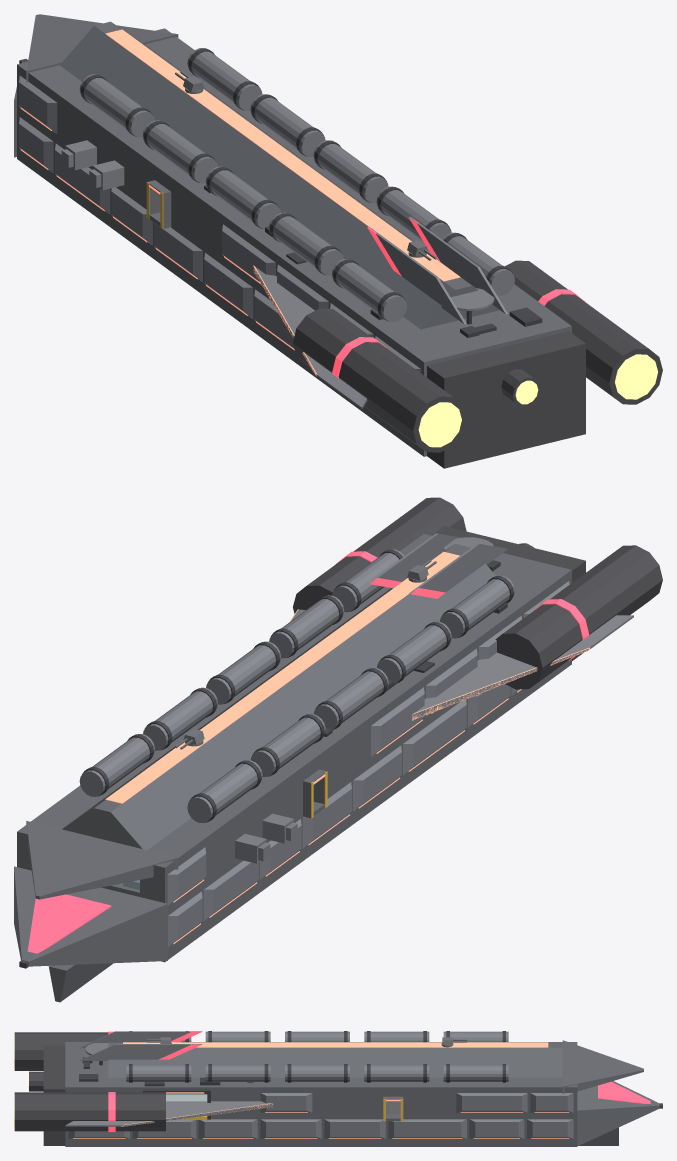
Rendered from ship_SMALL_SUPPORT_v1.glb.
3 renders of one model, top to bottom at view 1: azimuth 30°, elevation 25°; view 2: azimuth 150°, elevation 25°; view 3: azimuth 270°, elevation 25°, orthographic. The views are drawn at different scales.
Parts seen in each view (by area): view 1: SMALL_SUPPORT_Hull-col, SMALL_SUPPORT_Armor, SMALL_SUPPORT_Engines, SMALL_SUPPORT_Lights, SMALL_SUPPORT_Trim, SMALL_SUPPORT_EngineGlow, SMALL_SUPPORT_Accent, SMALL_SUPPORT_Details, SMALL_SUPPORT_EscapePod_1, SMALL_SUPPORT_EscapePod_2; view 2: SMALL_SUPPORT_Hull-col, SMALL_SUPPORT_Armor, SMALL_SUPPORT_Engines, SMALL_SUPPORT_Lights, SMALL_SUPPORT_Accent, SMALL_SUPPORT_Trim, SMALL_SUPPORT_EscapePod_1, SMALL_SUPPORT_EscapePod_2; view 3: SMALL_SUPPORT_Hull-col, SMALL_SUPPORT_Armor, SMALL_SUPPORT_Engines, SMALL_SUPPORT_Lights, SMALL_SUPPORT_Trim, SMALL_SUPPORT_Accent, SMALL_SUPPORT_Details, SMALL_SUPPORT_CargoBayDoor-col, SMALL_SUPPORT_CargoBayShield, SMALL_SUPPORT_Hazard, SMALL_SUPPORT_Airlock_2_OuterDoor-col.
Boxes of the visible parts, bbox=[...] form: SMALL_SUPPORT_Hull-col: bbox=[14, 14, 571, 456]; SMALL_SUPPORT_Armor: bbox=[19, 48, 514, 409]; SMALL_SUPPORT_Engines: bbox=[19, 59, 662, 468]; SMALL_SUPPORT_Lights: bbox=[20, 29, 460, 376]; SMALL_SUPPORT_Trim: bbox=[80, 48, 514, 324]; SMALL_SUPPORT_EngineGlow: bbox=[418, 354, 657, 447]; SMALL_SUPPORT_Accent: bbox=[332, 217, 584, 378]; SMALL_SUPPORT_Details: bbox=[204, 185, 542, 337]; SMALL_SUPPORT_EscapePod_1: bbox=[89, 160, 124, 190]; SMALL_SUPPORT_EscapePod_2: bbox=[61, 140, 96, 170]; SMALL_SUPPORT_Hull-col: bbox=[14, 534, 571, 1002]; SMALL_SUPPORT_Armor: bbox=[79, 533, 633, 947]; SMALL_SUPPORT_Engines: bbox=[19, 497, 662, 968]; SMALL_SUPPORT_Lights: bbox=[105, 551, 589, 944]; SMALL_SUPPORT_Accent: bbox=[27, 551, 589, 953]; SMALL_SUPPORT_Trim: bbox=[82, 549, 513, 822]; SMALL_SUPPORT_EscapePod_1: bbox=[262, 813, 297, 843]; SMALL_SUPPORT_EscapePod_2: bbox=[235, 834, 270, 863]; SMALL_SUPPORT_Hull-col: bbox=[65, 1040, 659, 1146]; SMALL_SUPPORT_Armor: bbox=[65, 1031, 573, 1138]; SMALL_SUPPORT_Engines: bbox=[14, 1032, 662, 1145]; SMALL_SUPPORT_Lights: bbox=[73, 1042, 569, 1138]; SMALL_SUPPORT_Trim: bbox=[99, 1031, 505, 1119]; SMALL_SUPPORT_Accent: bbox=[108, 1031, 650, 1131]; SMALL_SUPPORT_Details: bbox=[79, 1057, 253, 1086]; SMALL_SUPPORT_CargoBayDoor-col: bbox=[166, 1094, 207, 1101]; SMALL_SUPPORT_CargoBayShield: bbox=[166, 1094, 207, 1101]; SMALL_SUPPORT_Hazard: bbox=[176, 1099, 403, 1121]; SMALL_SUPPORT_Airlock_2_OuterDoor-col: bbox=[386, 1101, 400, 1114].
Size of the model in its own units: 27.41 by 16.45 by 90.
